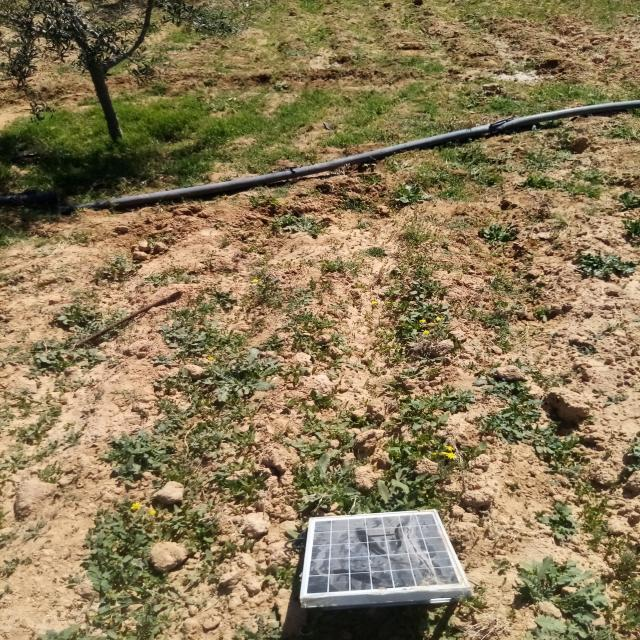faulty: (302, 510, 469, 597)
